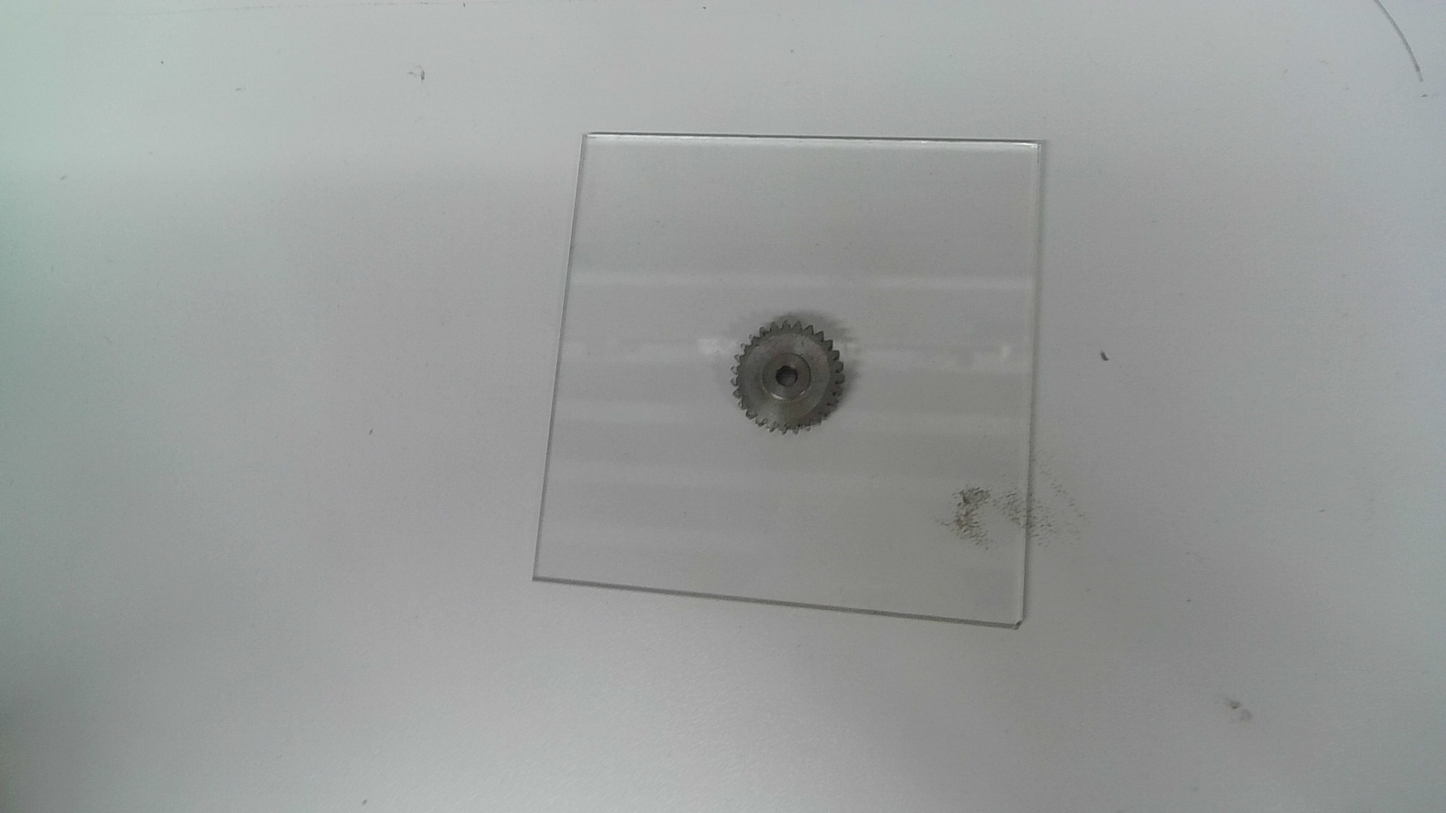gear: (730, 314, 849, 438)
